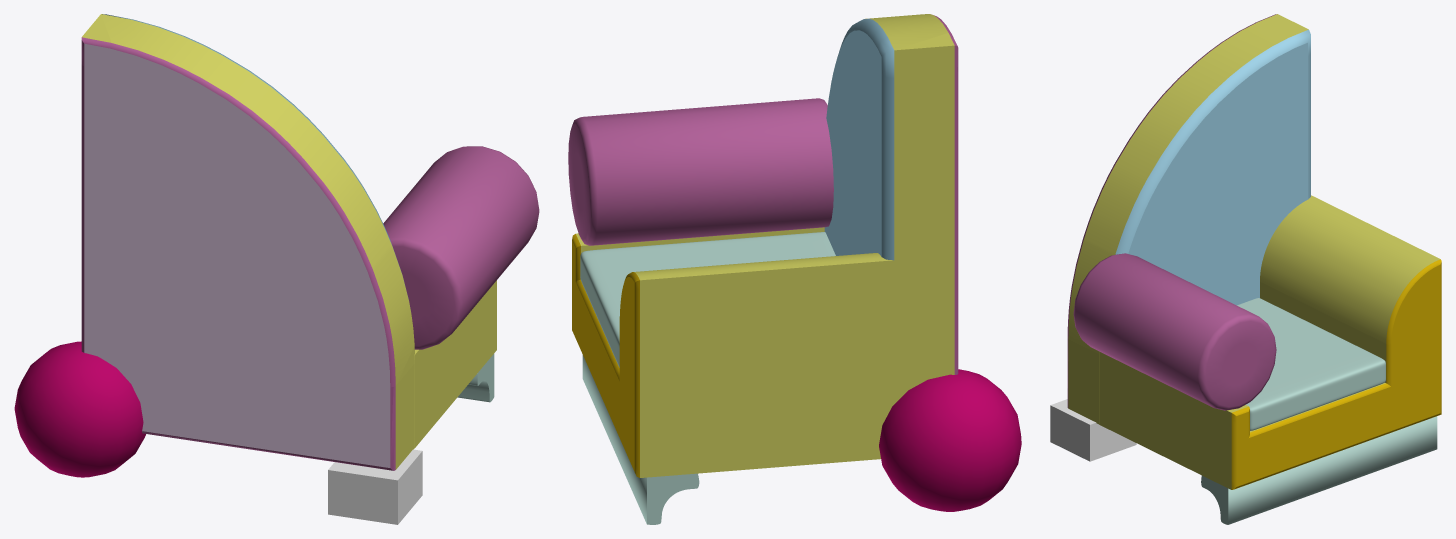
The model's file is BelAir.glb.
3 renders of one model, left to right at view 1: azimuth 30°, elevation 25°; view 2: azimuth 150°, elevation 25°; view 3: azimuth 270°, elevation 25°, orthographic. The views are drawn at different scales.
Visible parts, largest first — view 1: back_1, Cylinder, Sphere, base_1, back_leg, front_leg, back_front; view 2: base_1, Cylinder, back_1, Sphere, back_front, seat_cushion, front_leg; view 3: base_1, back_front, Cylinder, back_1, seat_cushion, front_leg, back_leg.
Boxes of the visible parts, x1,y1,x2,y2 form: back_1: (81, 14, 414, 470); Cylinder: (383, 146, 539, 349); Sphere: (14, 341, 145, 477); base_1: (414, 280, 496, 447); back_leg: (328, 449, 422, 524); front_leg: (457, 353, 494, 402); back_front: (102, 14, 408, 298); base_1: (572, 227, 895, 477); Cylinder: (568, 98, 833, 245); back_1: (865, 14, 958, 403); Sphere: (879, 369, 1021, 511); back_front: (824, 18, 894, 260); seat_cushion: (580, 232, 835, 367); front_leg: (582, 355, 699, 524); base_1: (1099, 195, 1441, 489); back_front: (1115, 29, 1310, 305); Cylinder: (1073, 253, 1276, 410); back_1: (1067, 14, 1308, 424); seat_cushion: (1237, 298, 1385, 430); front_leg: (1201, 416, 1437, 524); back_leg: (1050, 399, 1136, 461).
Size of the model in its own units: 1.54 by 1.38 by 1.35.
